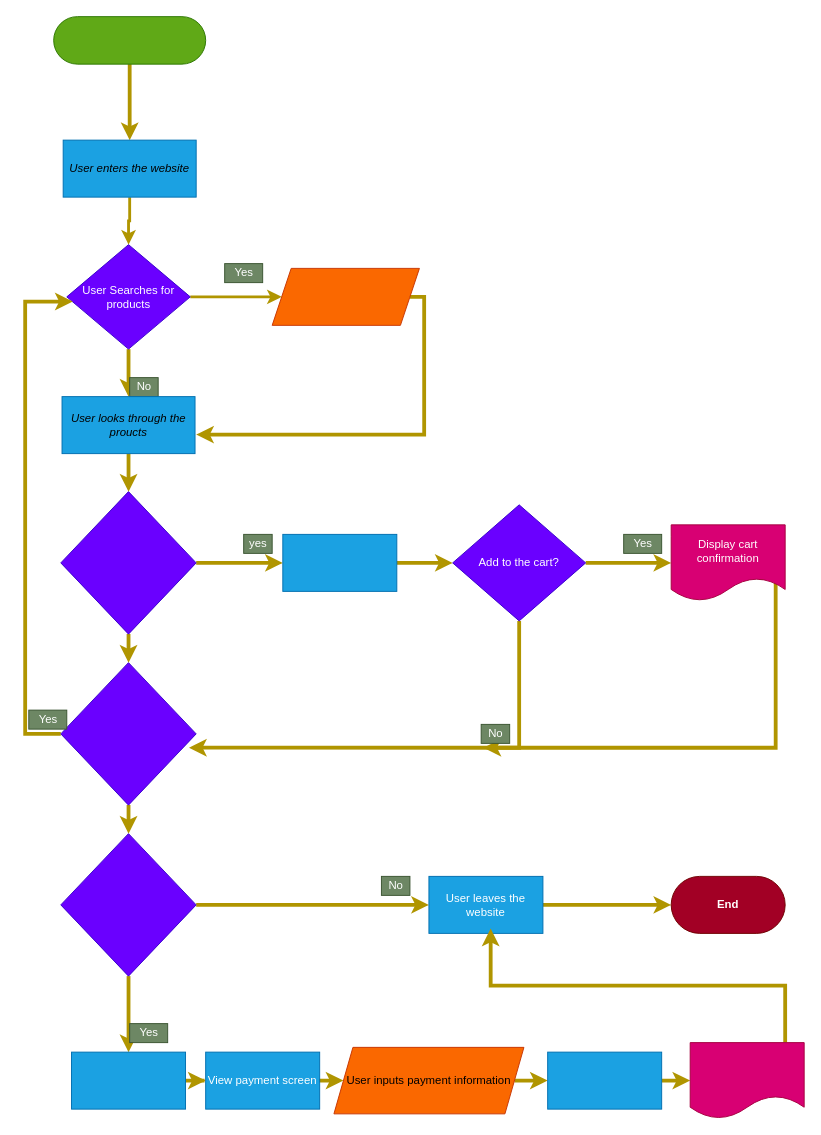
Some shapes in this 821 by 1135 pixel diagram are drawn without their labels. The box of each missing label's shape, as (x1, y1, x2, y2) in pixels:
Checkout?: (60, 833, 196, 976)
Confirmation/recieves an emai: (689, 1042, 804, 1119)
Continue shopping?: (60, 662, 196, 805)
Option of viewing a specific product: (60, 491, 196, 634)
Products web page is opened: (282, 533, 397, 591)
Reach view cart screen: (71, 1051, 186, 1109)
Start: (53, 16, 206, 64)
User enters the input: (271, 267, 419, 325)
User pays for their products: (547, 1051, 662, 1109)
